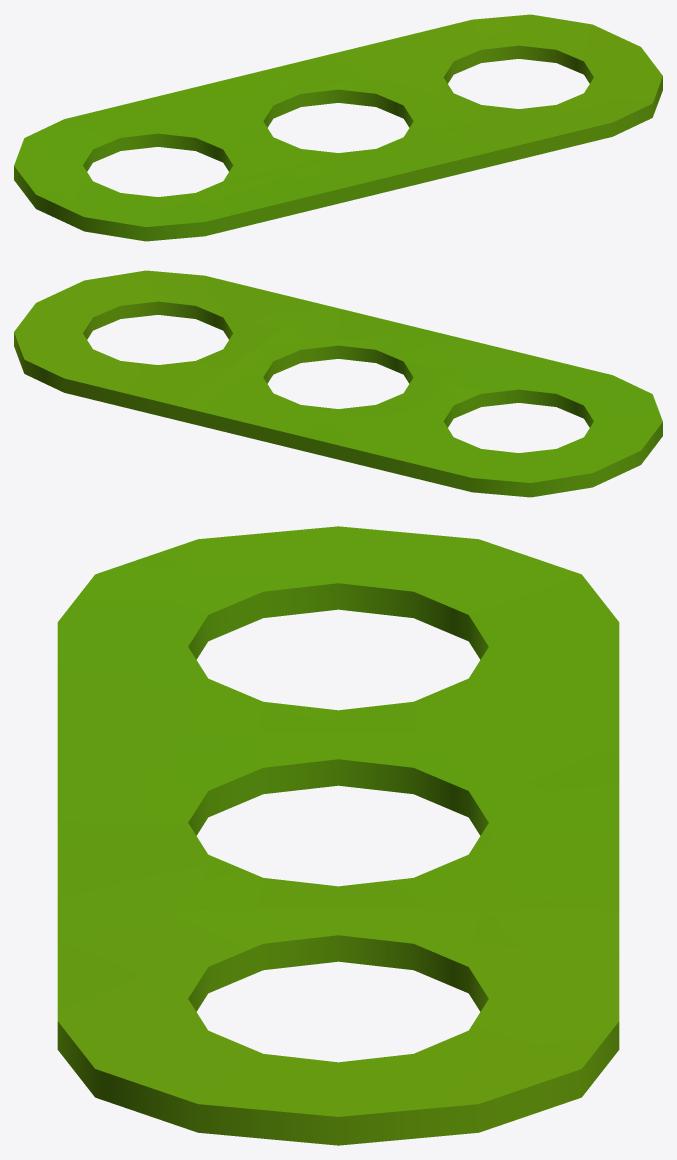
File: ThreeLongGreen.fbx
3 views of the same model, one above another, from view 1: azimuth 30°, elevation 25°; view 2: azimuth 150°, elevation 25°; view 3: azimuth 270°, elevation 25° (orthographic). The views are drawn at different scales.
Visible parts, largest first — view 1: Blue3; view 2: Blue3; view 3: Blue3.
Part boxes in pixels (box(x1,y1,x2,y2)): Blue3: box(14, 14, 662, 241); Blue3: box(14, 270, 662, 497); Blue3: box(57, 526, 619, 1145).
Size of the model in its own units: 8.58 by 0.1942 by 3.45.
